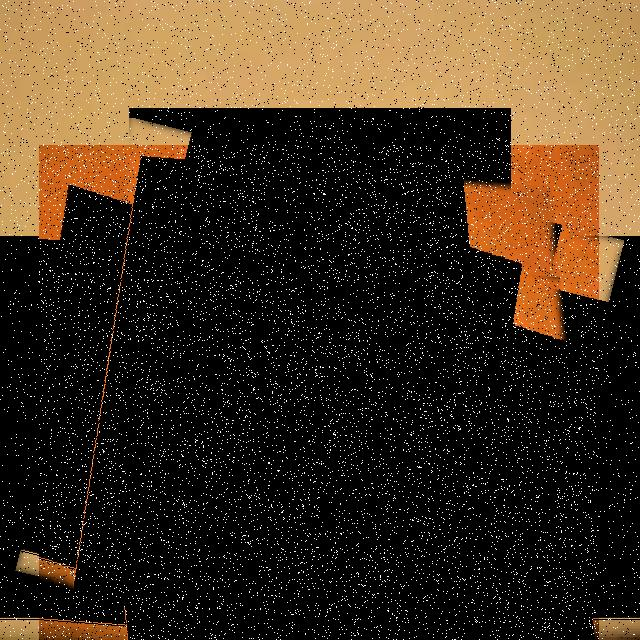dua puluh ribu rupiah: (39, 145, 599, 640)
